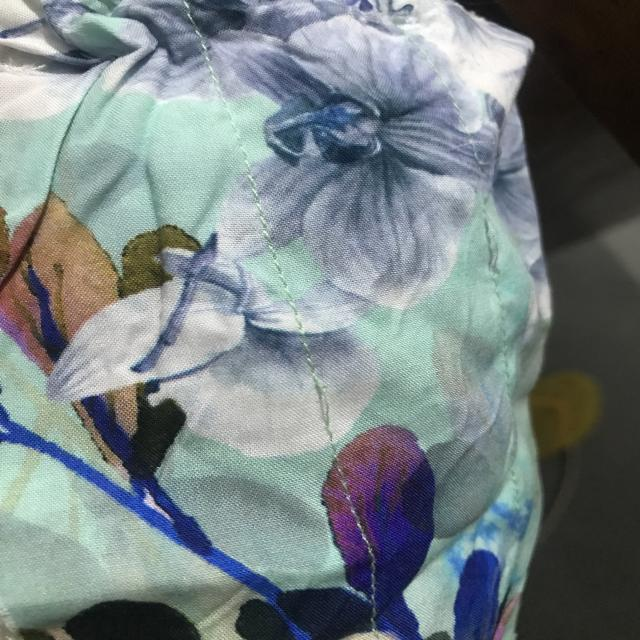good: (264, 253, 320, 340)
skip: (292, 372, 361, 436)
